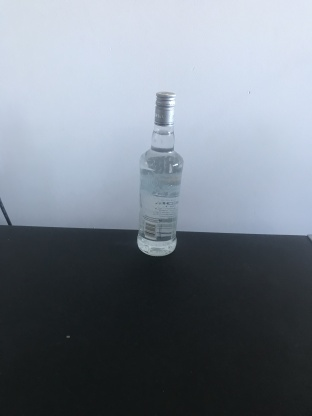nakretka: (153, 90, 176, 128)
